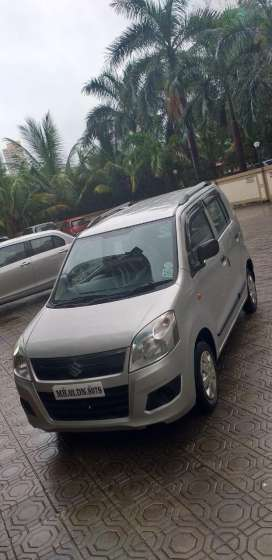license_plate: (41, 381, 117, 399)
